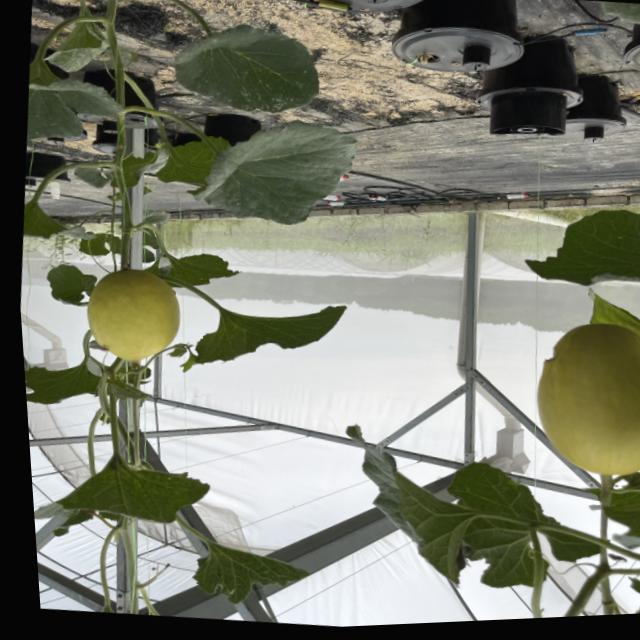CMV: (167, 528, 319, 617)
downy mildew: (30, 445, 217, 543), (183, 290, 355, 381)
healthy: (325, 412, 614, 618), (181, 108, 364, 236), (521, 197, 640, 296)
powdery mildew: (167, 15, 328, 121), (21, 56, 131, 151)
